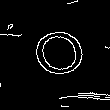O_S: (22, 25, 88, 85)
